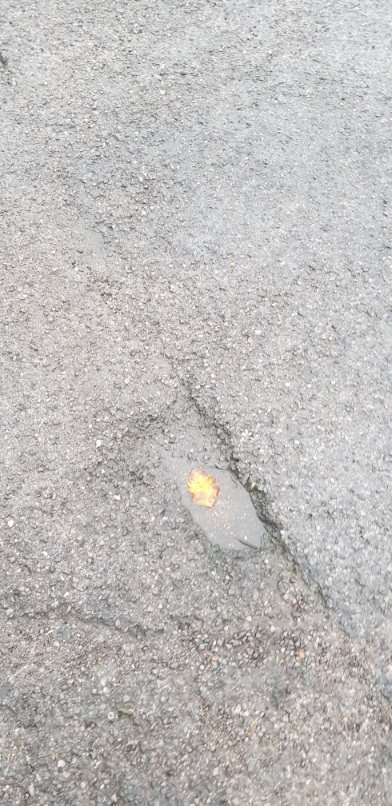pothole: (121, 384, 288, 565)
